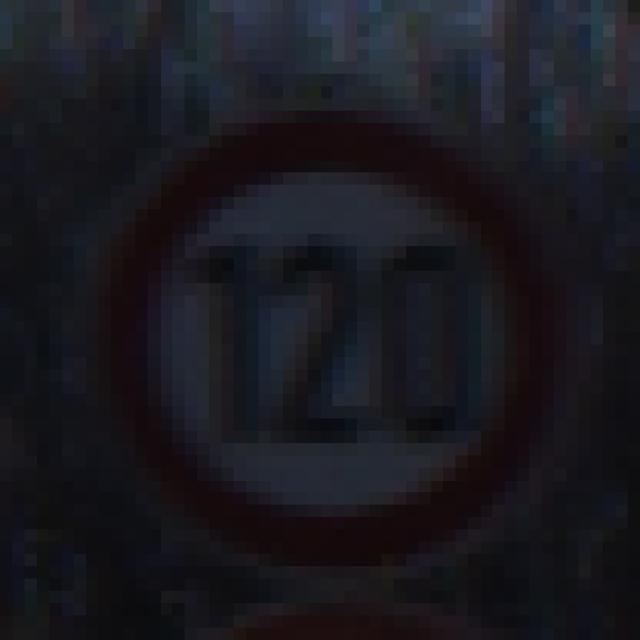Ograniczenie predkosci do 120: (123, 119, 555, 567)
